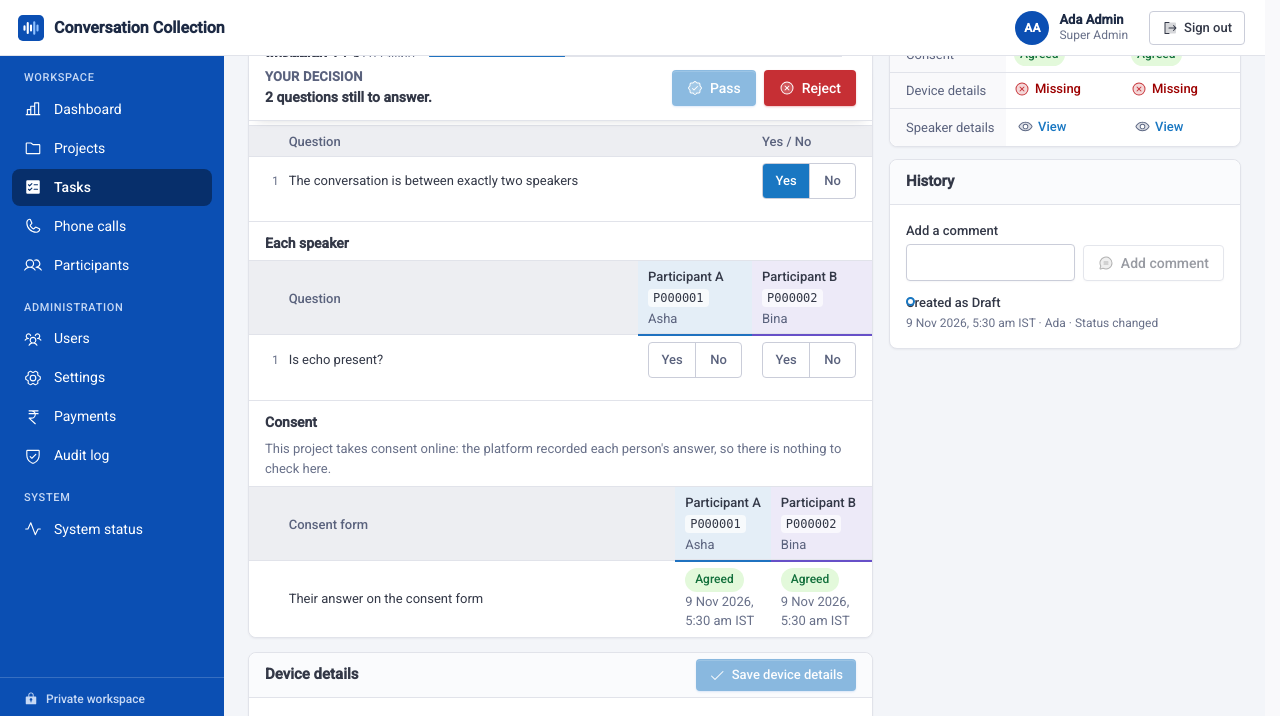
Test: the QC checklist (D-146) › keeps the answers as a draft while ticking, and starts from the saved draft
(page scrolled)
Expected: the radio button labelled "Yes" below "Yes / No" is checked, [763,164,809,198]
Expected: the column heading "Participant A P000001 Asha" below "Yes / No" is shown, [638,261,752,335]
What coordinates should you click on to do the following:
click the 2nd radio button labelled "Yes"
I would click on:
 (672, 360)
Its box is [661,352,683,367].
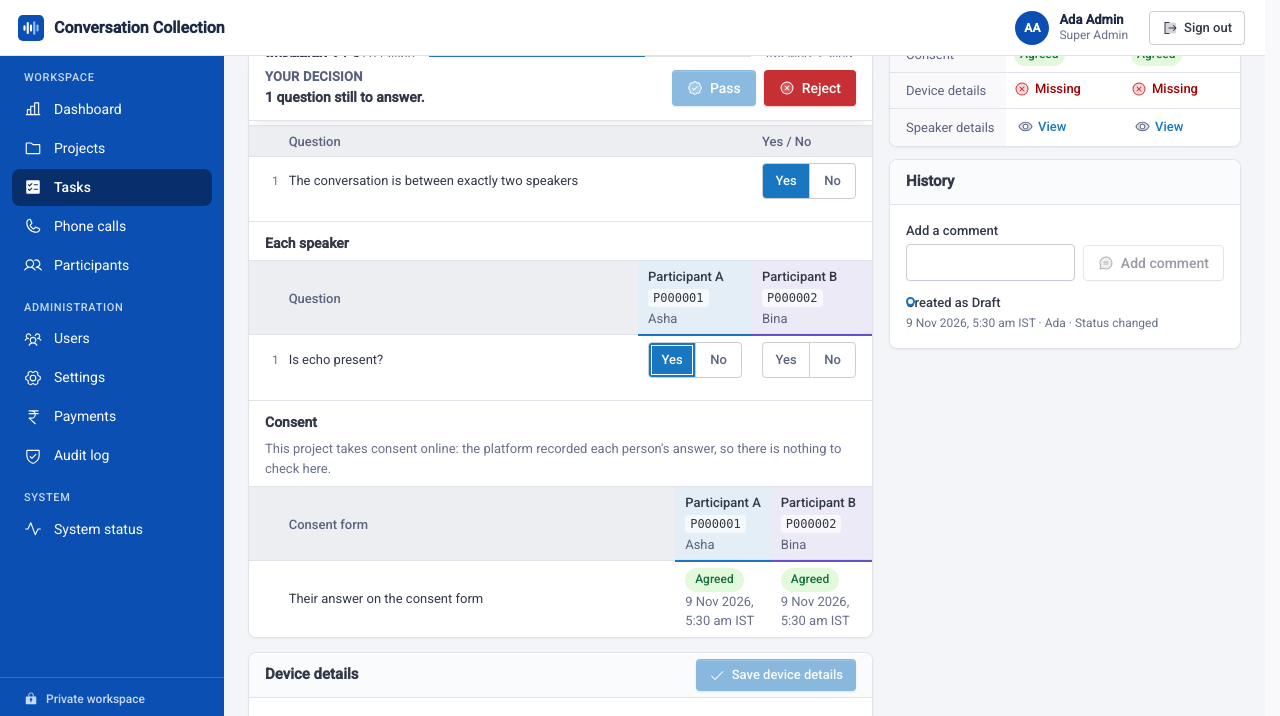
Now the text "Answers saved." is shown, box [765,47,856,67]
